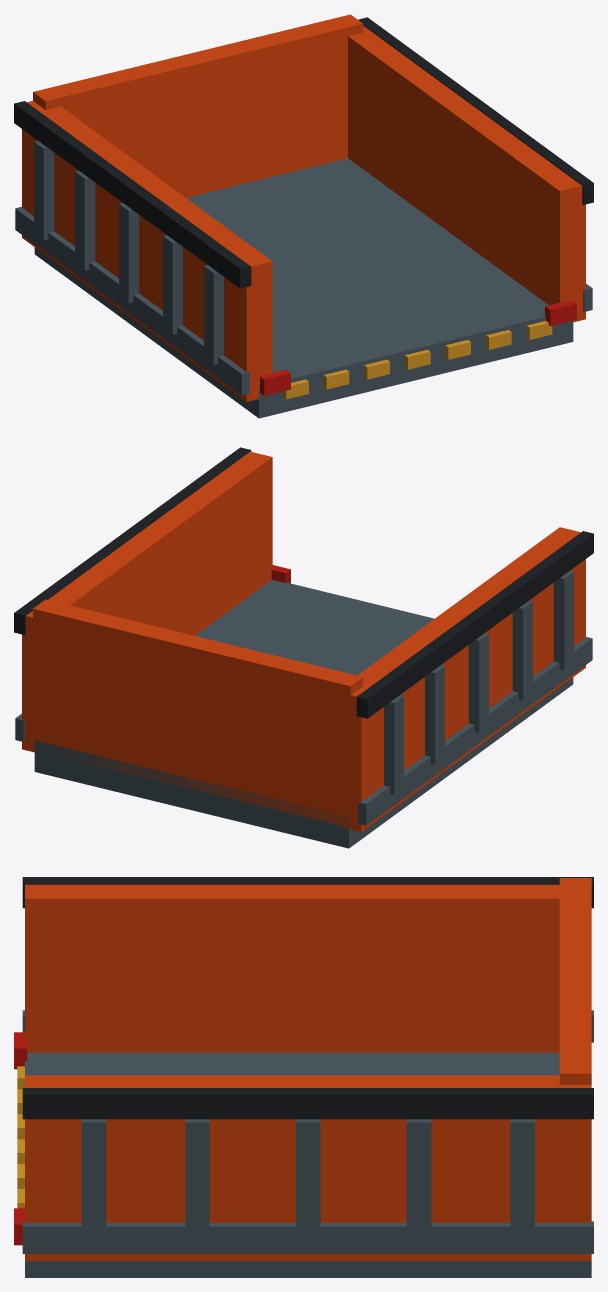
Rendered from DumpBed.obj.
3 renders of one model, top to bottom at view 1: azimuth 30°, elevation 25°; view 2: azimuth 150°, elevation 25°; view 3: azimuth 270°, elevation 25°, orthographic. The views are drawn at different scales.
Bounding box in the file's own units: 2.13 × 0.92 × 2.36.
